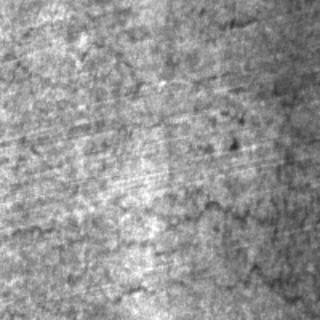crazing: (7, 191, 274, 309), (270, 77, 318, 317)
